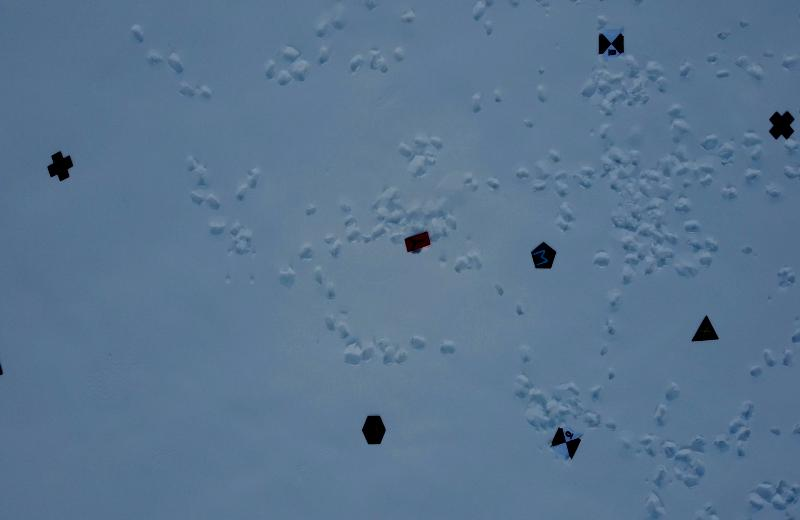Cross: (46, 150, 73, 184), (768, 110, 796, 142)
Hexagon: (359, 413, 389, 448)
Pentagon: (528, 236, 560, 272)
Rectangle: (400, 228, 434, 254)
Triangle: (691, 314, 719, 346)
